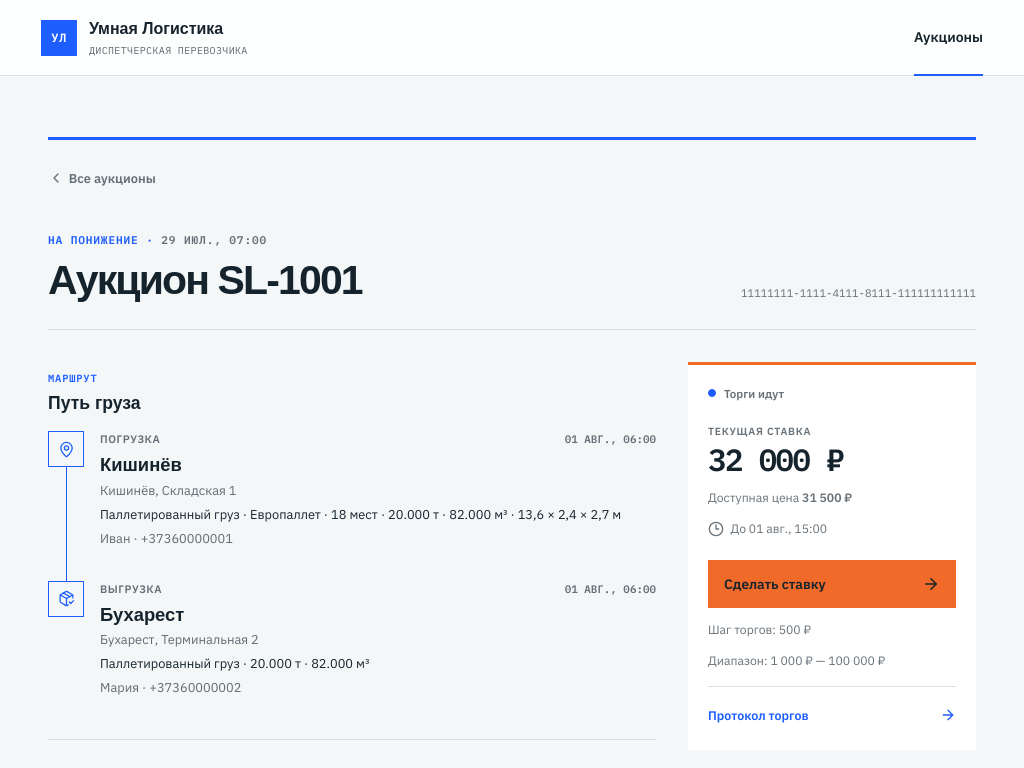
application routes › navigates through the SPA without losing QueryClient state
Expected: the heading "Аукцион SL-1001" is shown, [48,260,362,301]
Click the link "Аукционы" at point(948, 38), box [914,0,983,75]
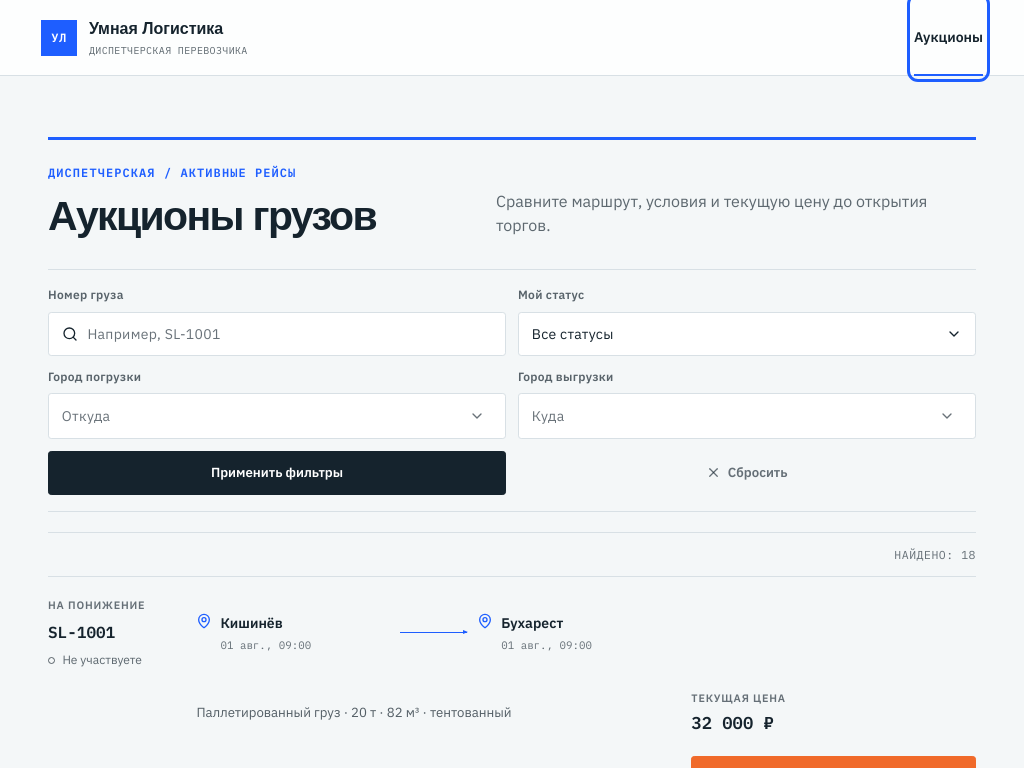
Expected: the heading "Аукционы грузов" is shown, [48,196,376,237]
